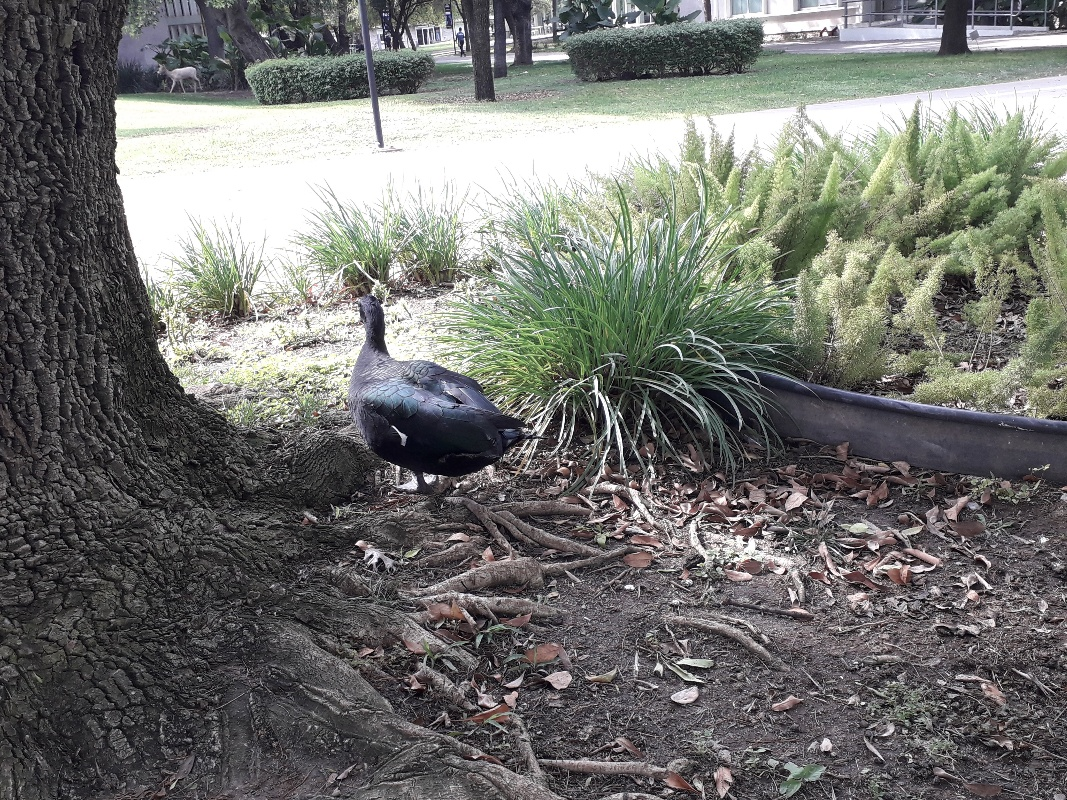pato: (349, 288, 516, 481)
